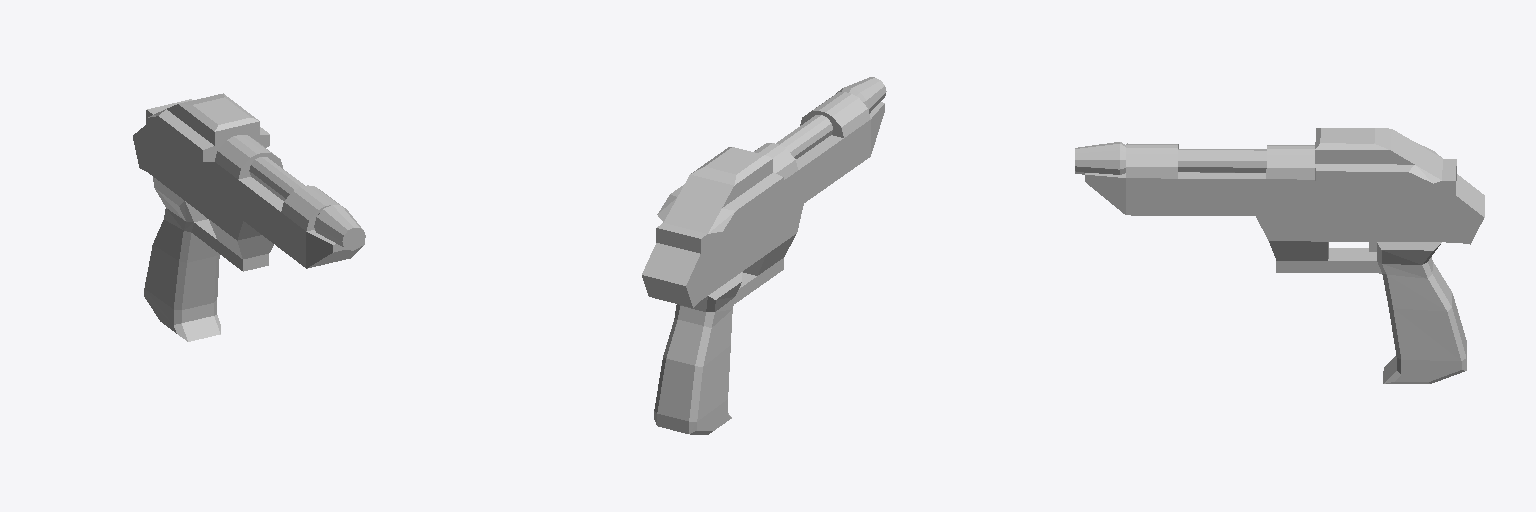
Rendered from Lazer.obj.
The picture shows the model from 3 angles: view 1: azimuth 30°, elevation 25°; view 2: azimuth 150°, elevation 25°; view 3: azimuth 270°, elevation 25°; orthographic projection.
Parts seen in each view (by area): view 1: main_main.002; view 2: main_main.002; view 3: main_main.002.
Part boxes in pixels (x1,y1,x2,y2): main_main.002: (133,93,365,341); main_main.002: (642,77,886,434); main_main.002: (1075,128,1484,383).
Bounding box in the file's own units: 0.1494 × 0.5026 × 0.7791.